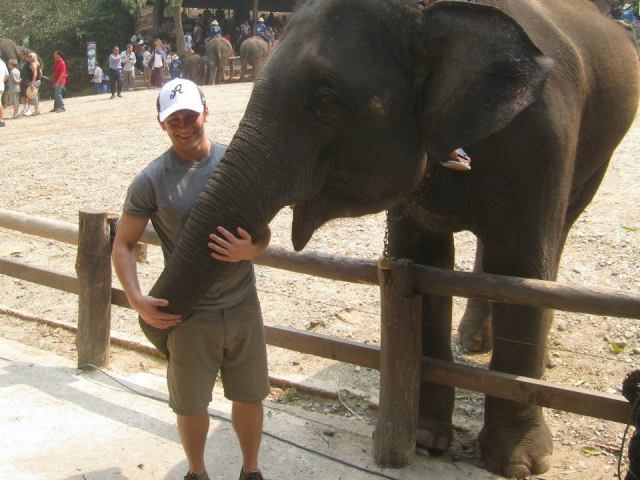elephant: (123, 1, 638, 480)
